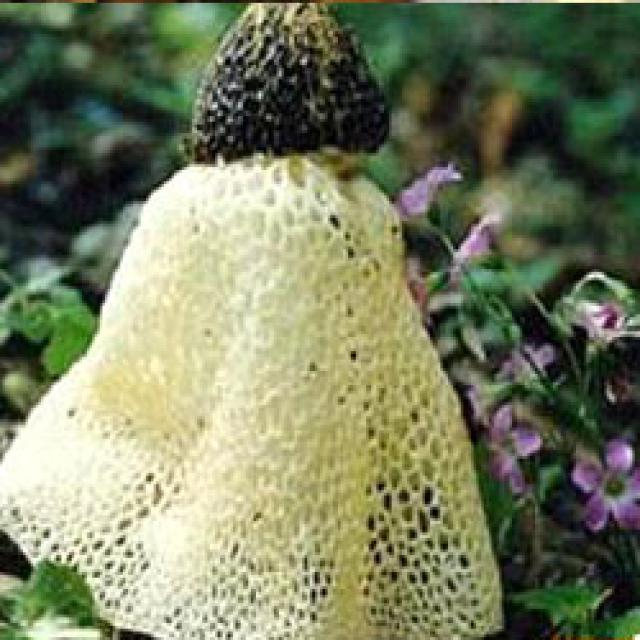Dictyophora indusiate: (1, 0, 504, 637)
